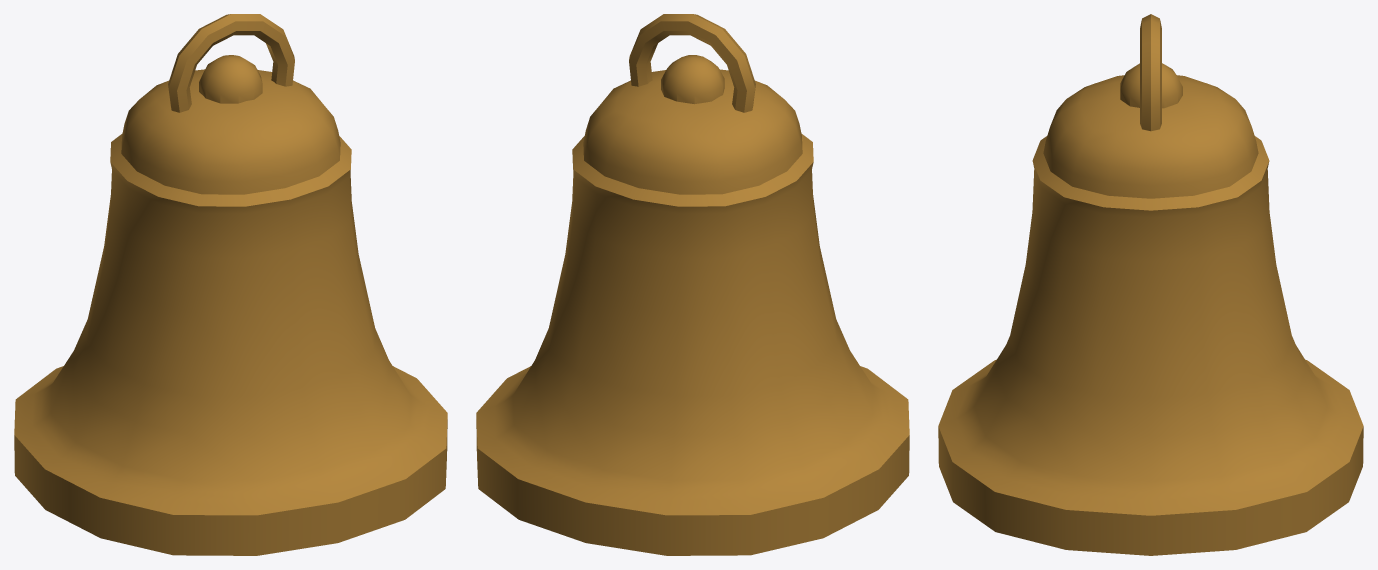
File: Bell.glb
3 views of the same model, side by side, from view 1: azimuth 30°, elevation 25°; view 2: azimuth 150°, elevation 25°; view 3: azimuth 270°, elevation 25° (orthographic).
Visible parts, largest first — view 1: Bell; view 2: Bell; view 3: Bell.
Part boxes in pixels (box(x1,y1,x2,y2)): Bell: box(14, 14, 447, 555); Bell: box(476, 14, 909, 555); Bell: box(938, 14, 1363, 555).
Size of the model in its own units: 0.6331 by 0.7325 by 0.6331.
